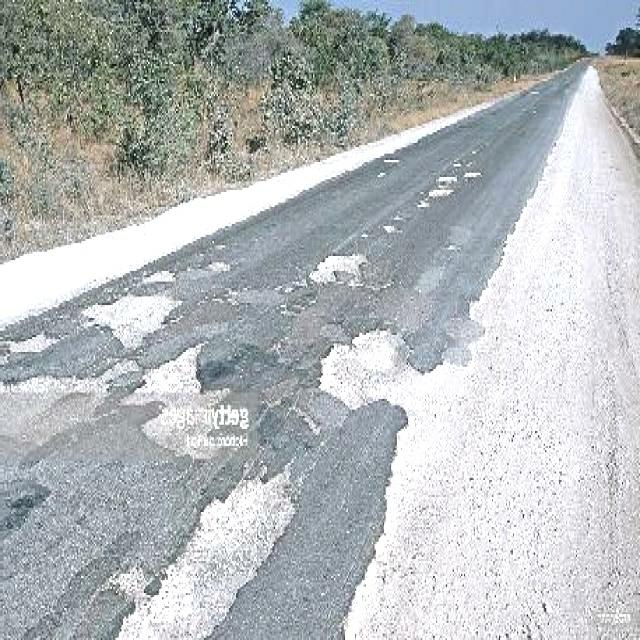Pothole: (110, 465, 300, 638), (317, 320, 421, 410), (81, 286, 184, 346), (136, 335, 211, 395), (310, 247, 369, 288), (7, 329, 67, 354), (429, 181, 458, 201), (464, 166, 483, 177)
